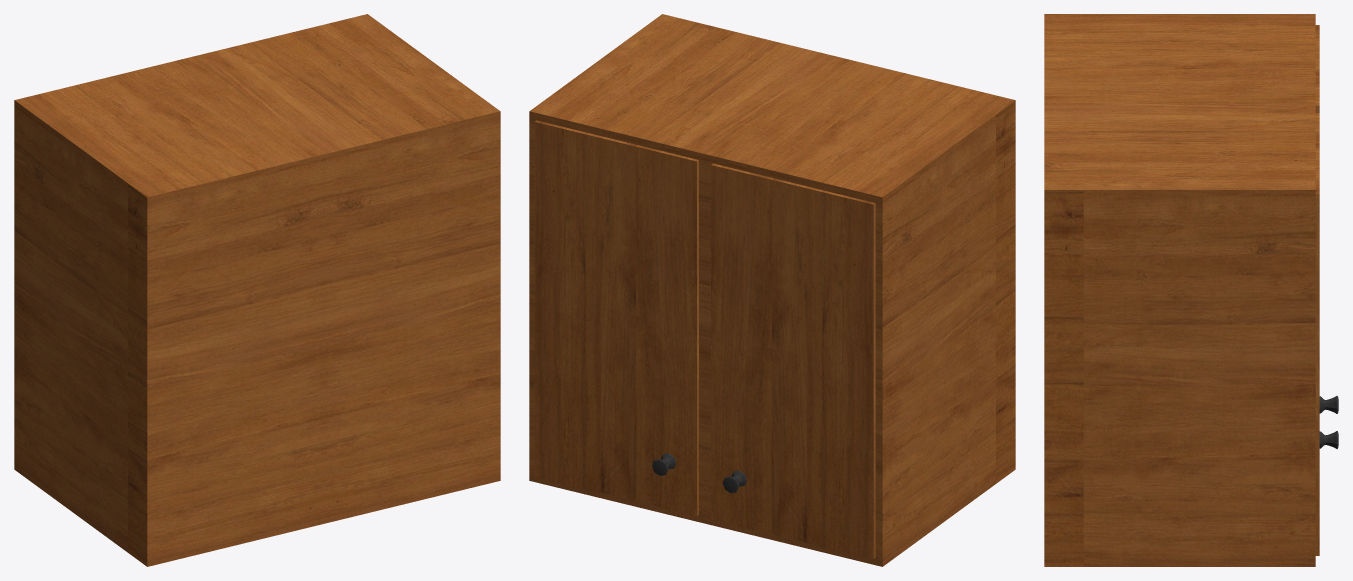
The model's file is cabinetsHigh.fbx.
The picture shows the model from 3 angles, left to right: view 1: azimuth 30°, elevation 25°; view 2: azimuth 150°, elevation 25°; view 3: azimuth 270°, elevation 25°; orthographic projection. The views are drawn at different scales.
Parts seen in each view (by area): view 1: Cube; view 2: Cube; view 3: Cube.
Part boxes in pixels (box(x1,y1,x2,y2)): Cube: box(14, 14, 500, 566); Cube: box(529, 14, 1015, 566); Cube: box(1044, 14, 1338, 566).
Size of the model in its own units: 200 by 200 by 142.
